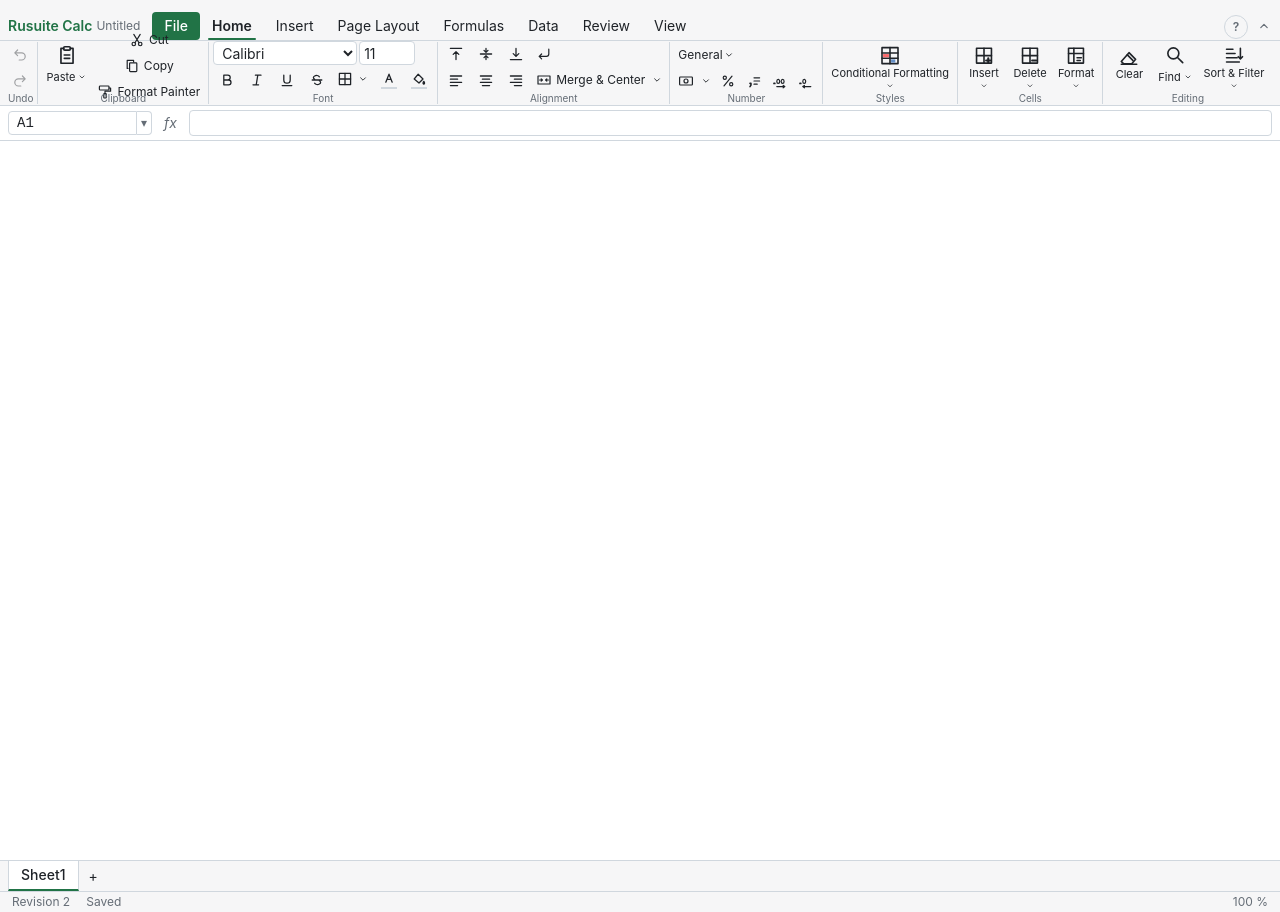
Test: never losing text › =A1+ and Enter shows the inline error and keeps the text
Expected: the tab "Sheet1" is shown, top-left (8, 861), bottom-right (78, 891)
Press = in the table with test id "grid"
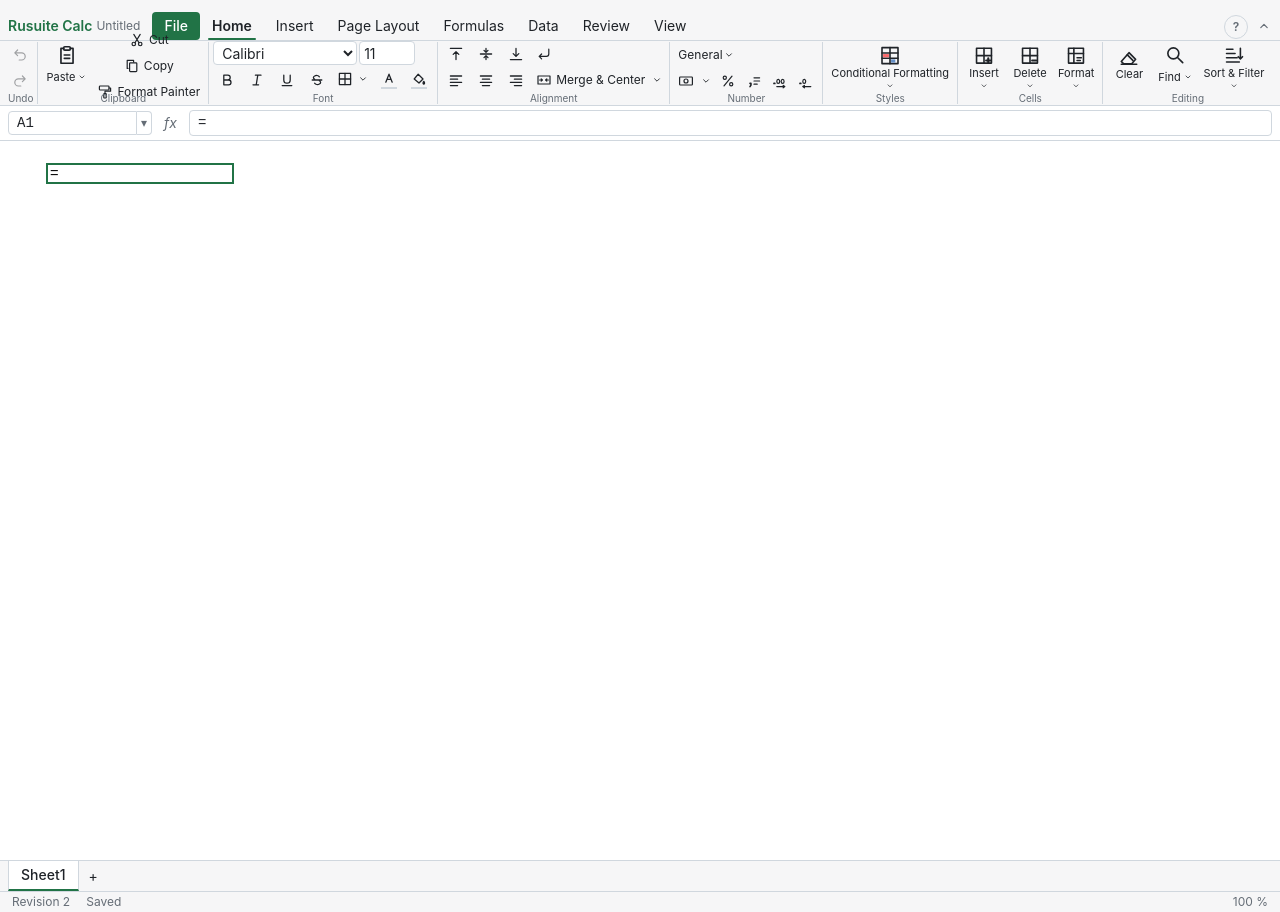
Replace the text in the text box with test id "cell-editor" with "=A1+" at (140,174), box top-left (46, 163), bottom-right (234, 184)
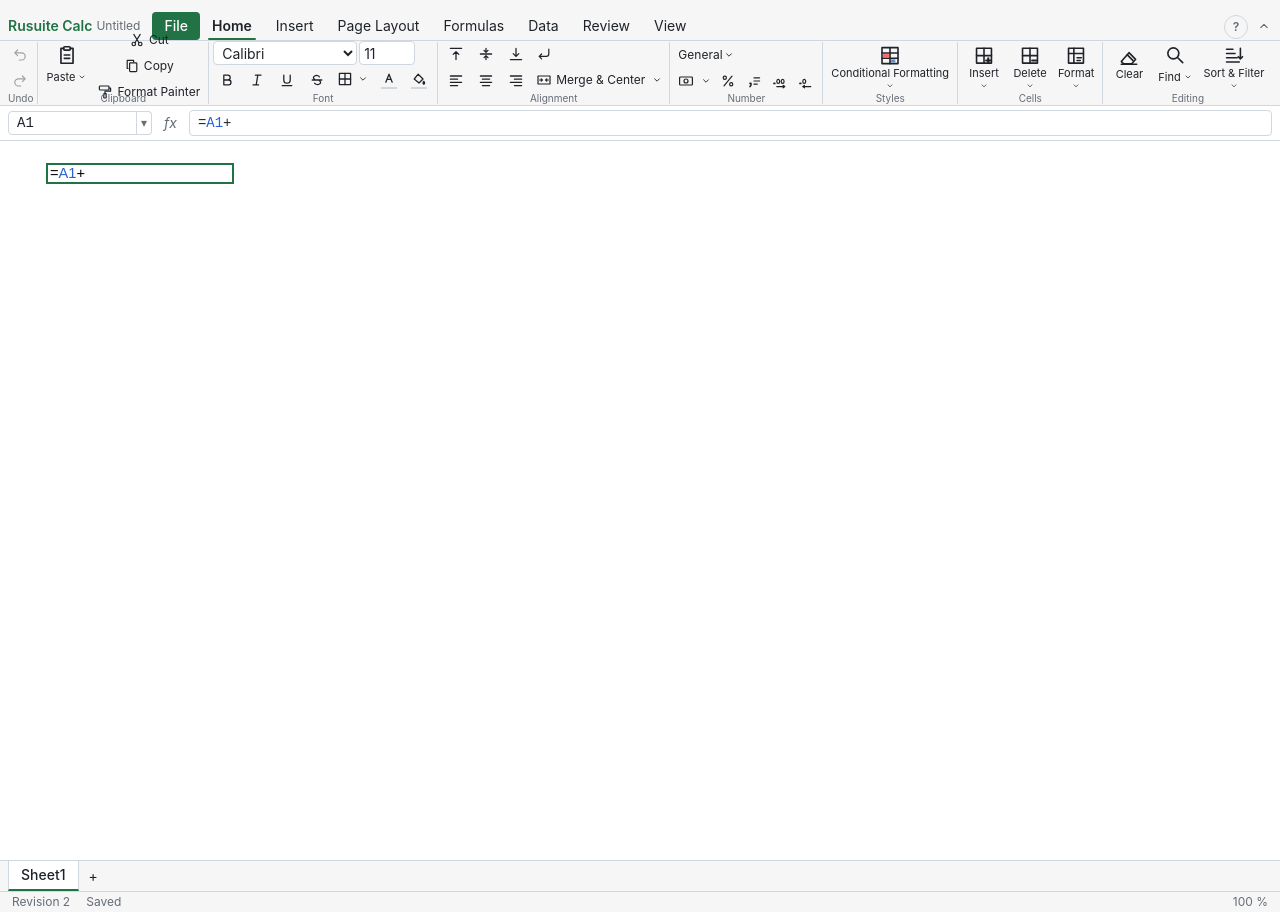
Press Enter in the text box with test id "cell-editor", box top-left (46, 163), bottom-right (234, 184)
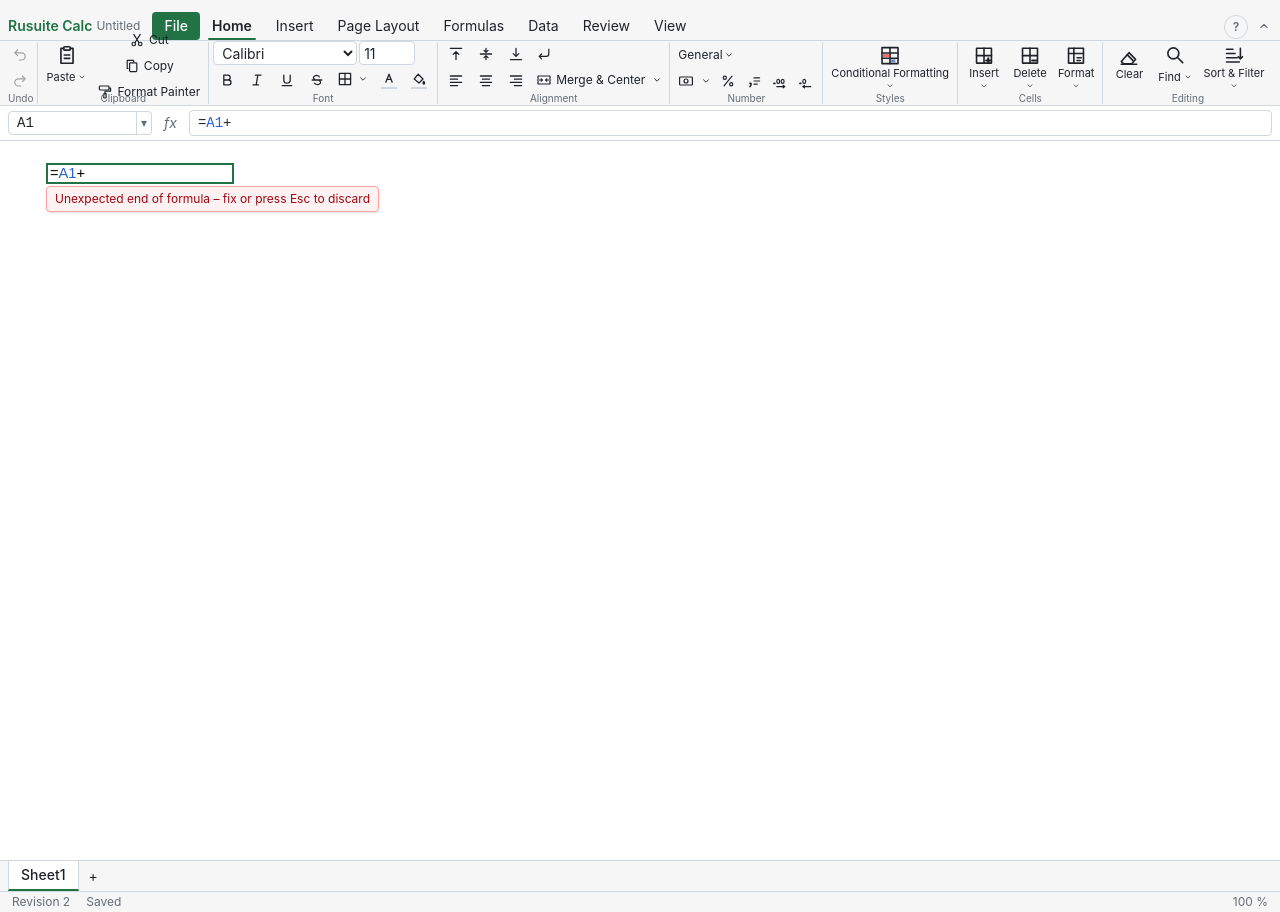
Result: the message with test id "formula-error" reads "Unexpected end of formula – fix or press Esc to discard" at top-left (55, 191), bottom-right (370, 206)
